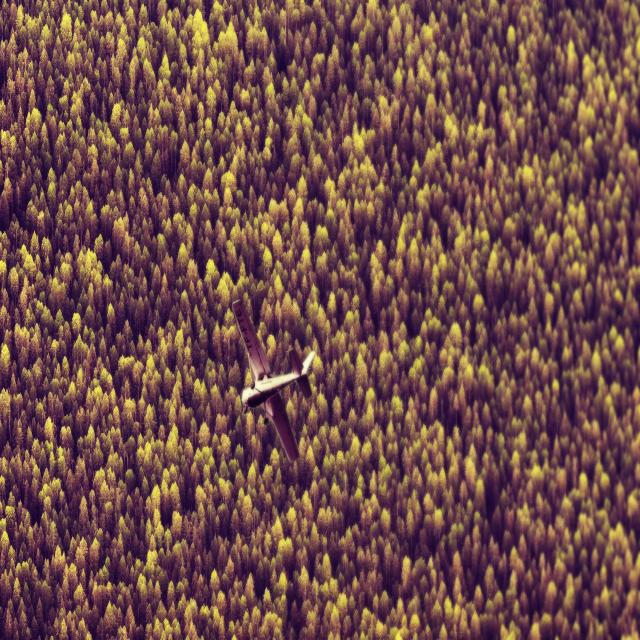airplane: (231, 298, 315, 463)
